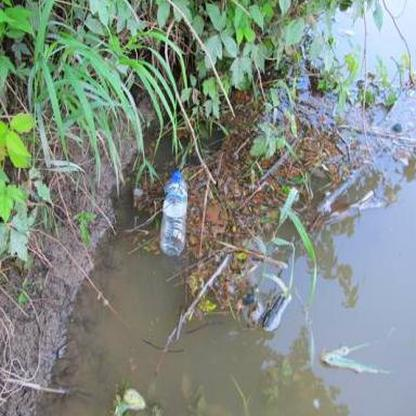plastic bottle: (161, 171, 187, 253)
